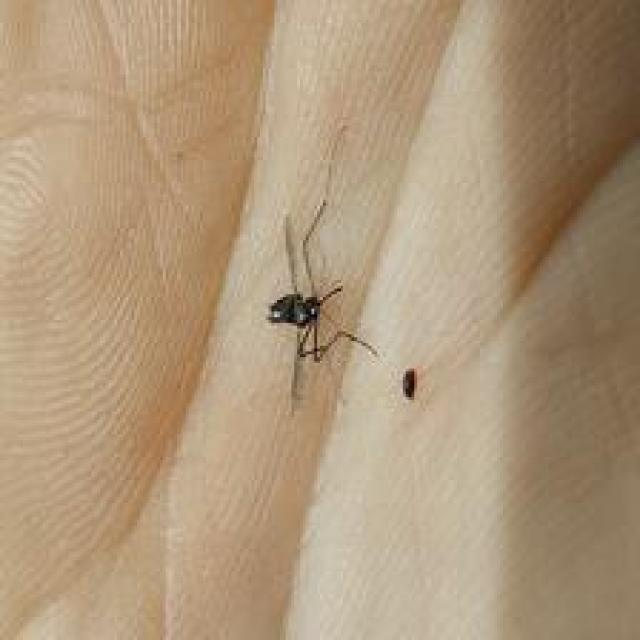Aedes albopictus: (264, 197, 379, 403)
